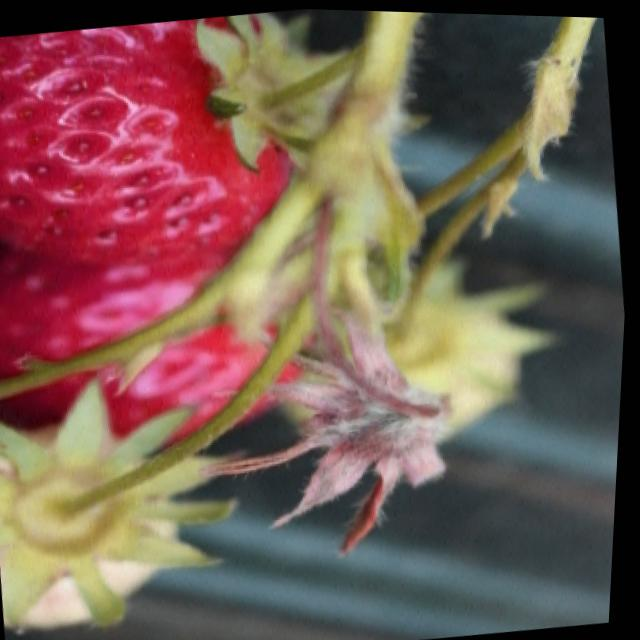Gray Mold: (220, 304, 456, 553)
